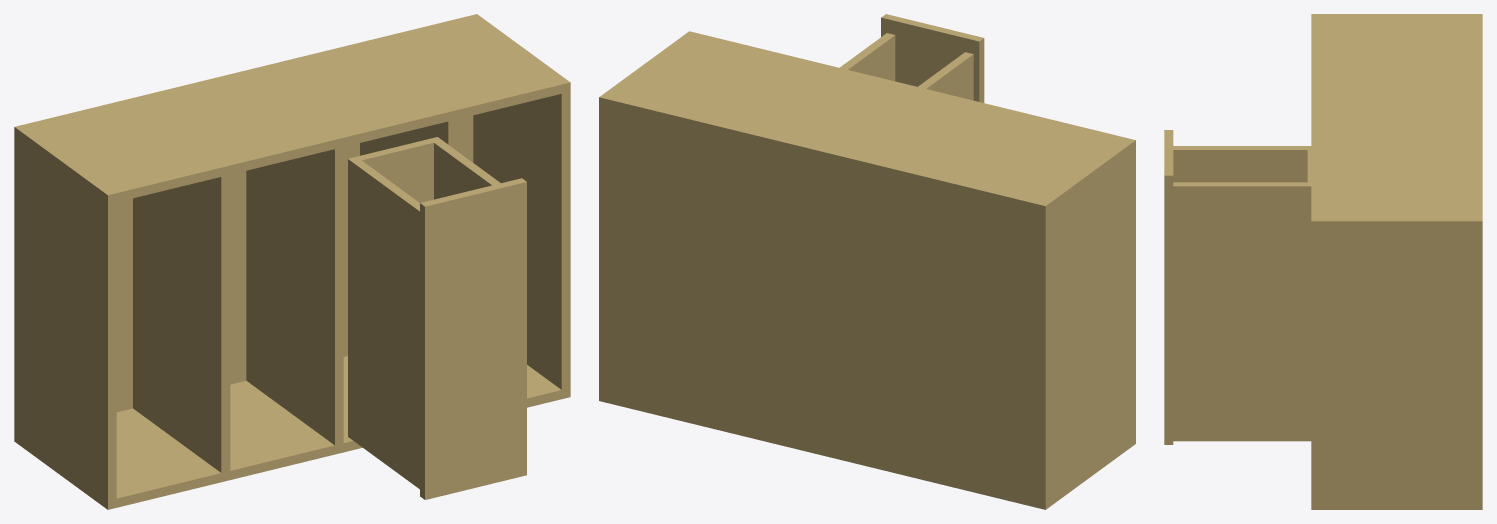
File: meuble_690c2cb97cfa2.glb
3 renders of one model, left to right at view 1: azimuth 30°, elevation 25°; view 2: azimuth 150°, elevation 25°; view 3: azimuth 270°, elevation 25°, orthographic. The views are drawn at different scales.
Parts seen in each view (by area): view 1: world; view 2: world; view 3: world.
Part boxes in pixels (left/top/right/bottom): world: left=14, top=14, right=570, bottom=509; world: left=599, top=14, right=1135, bottom=509; world: left=1164, top=14, right=1482, bottom=509.
Bounding box in the file's own units: 1 × 0.65 × 0.65.
